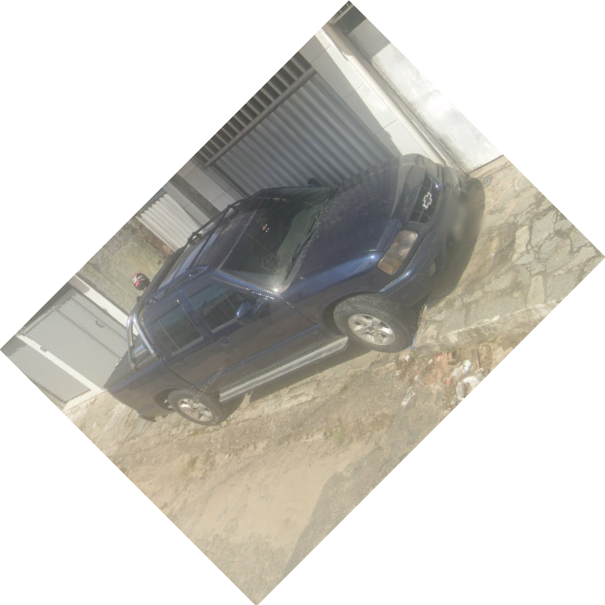car: (100, 162, 450, 426)
